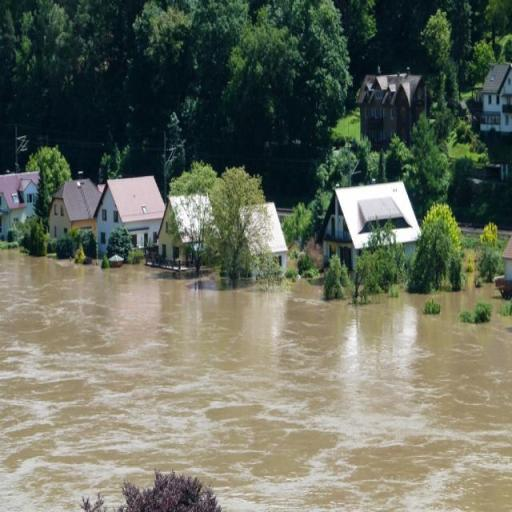flood: (1, 251, 512, 512)
house: (324, 175, 429, 277), (99, 172, 166, 260), (356, 69, 424, 149), (226, 202, 290, 279), (154, 194, 219, 266), (52, 178, 102, 254), (476, 61, 512, 141), (0, 170, 40, 228)
